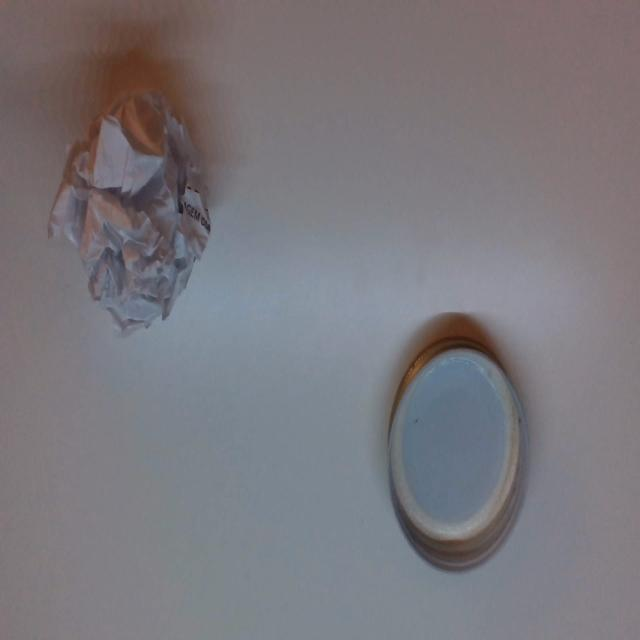Paper: (51, 67, 208, 333)
